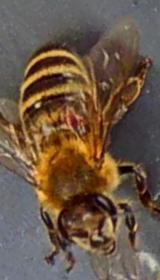varroa_mite: (62, 106, 94, 141)
